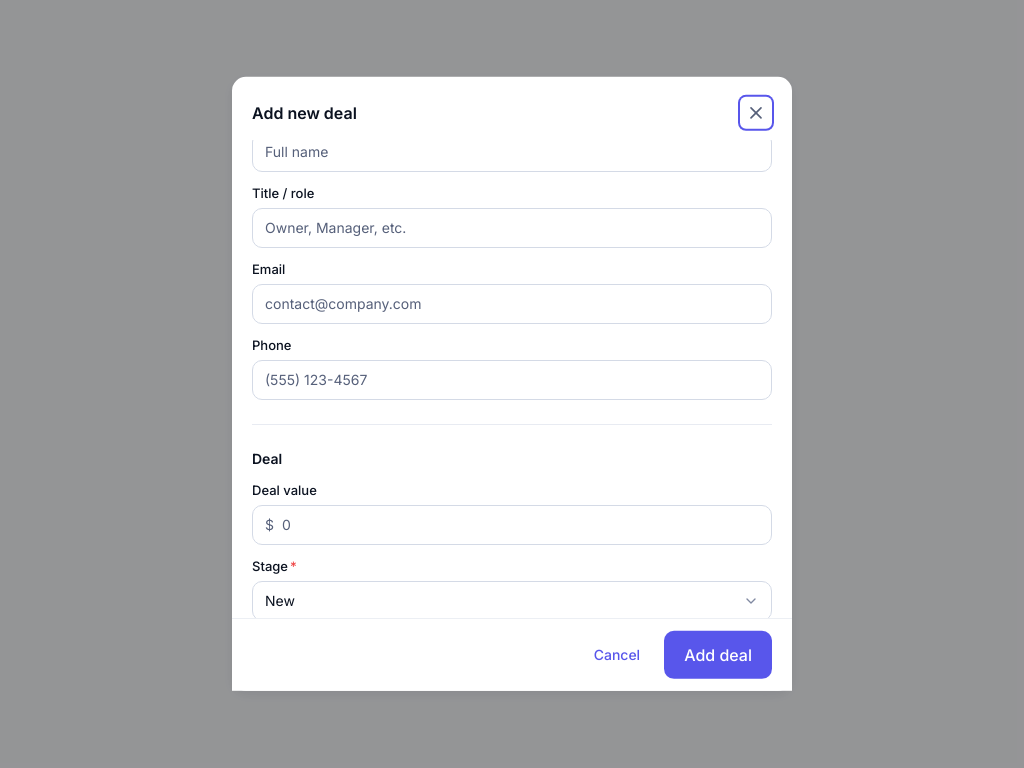
Test: AddDealSheet: phone deletion is caret-free (format on blur) › keeps the raw value on change and formats on blur
(page scrolled)
Type "3105551234" into the field with id "contactPhone" at point(512, 380), box x1=265 y1=370 x2=759 y2=390
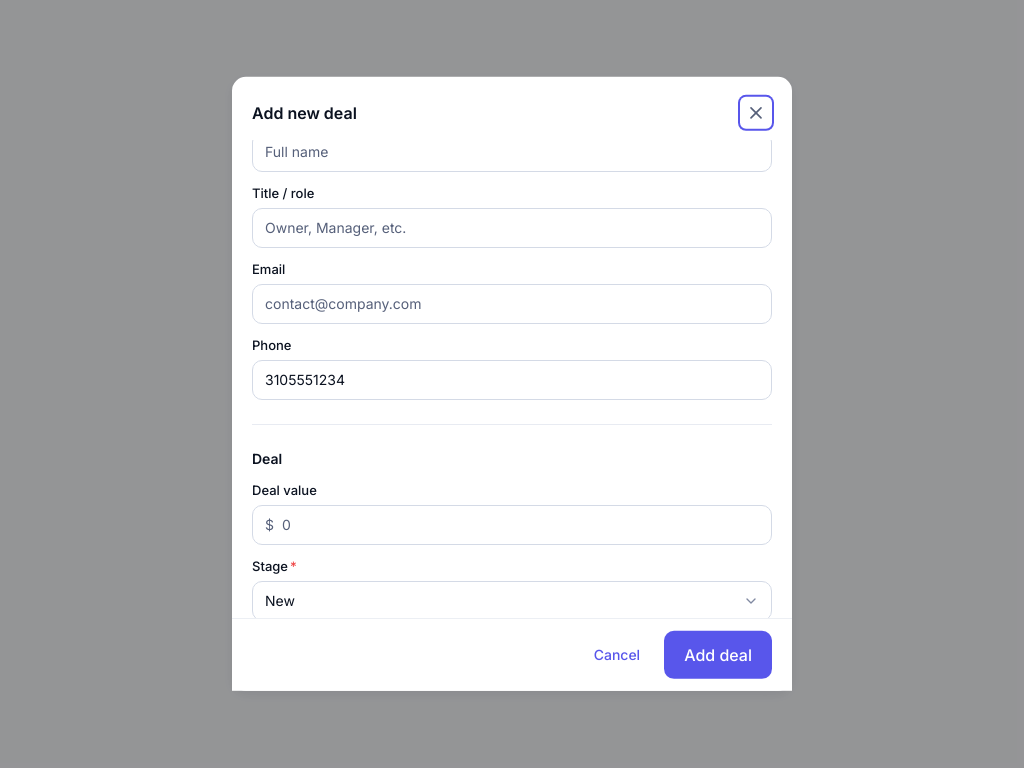
Leave the field with id "contactPhone", box x1=265 y1=370 x2=759 y2=390
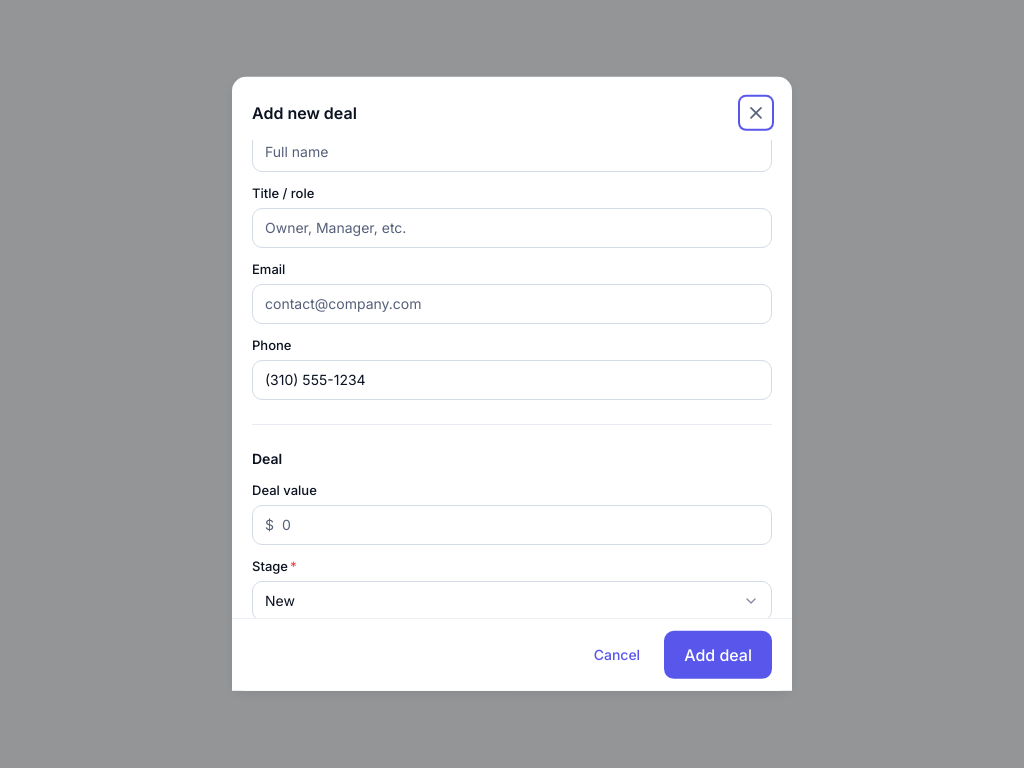
Expected: the field with id "contactPhone" holds "(310) 555-1234", x1=265 y1=370 x2=759 y2=390
